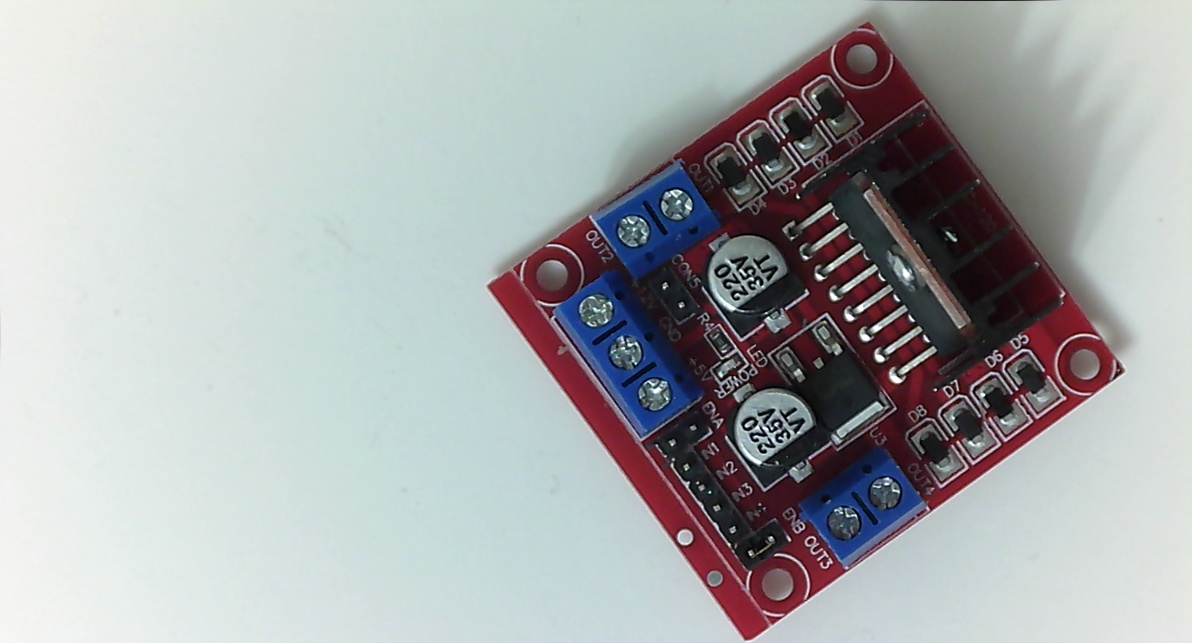l298n: (481, 16, 1127, 643)
